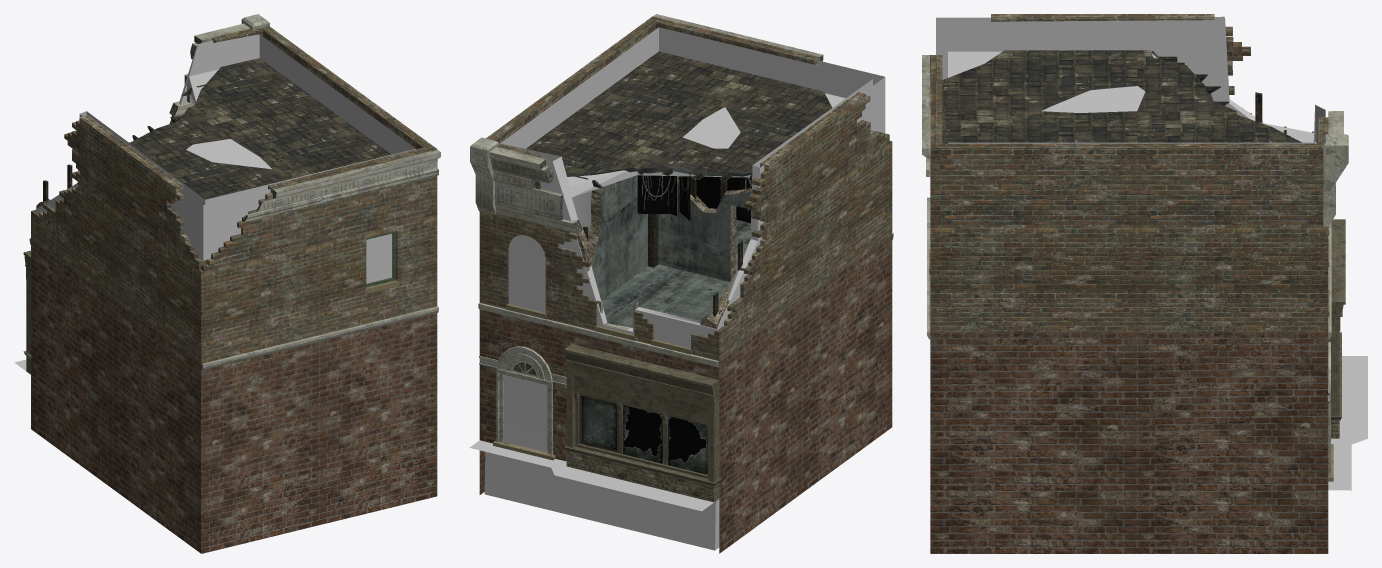
File: OTBuilding03.FBX
3 views of the same model, side by side, from view 1: azimuth 30°, elevation 25°; view 2: azimuth 150°, elevation 25°; view 3: azimuth 270°, elevation 25° (orthographic). The views are drawn at different scales.
Parts seen in each view (by area): view 1: OTBldg03:6, OTBldg03:7, OTBldg03_lod:0; view 2: OTBldg03:6, OTBldg03:7, OTBldg03_lod:0, OTBldg03:34, OTBldg03:74, OTBldg03:12; view 3: OTBldg03:6, OTBldg03:7, OTBldg03_lod:0, OTBldg03:74, OTBldg03:12.
Boxes of the visible parts, x1,y1,x2,y2 form: OTBldg03:6: (26, 26, 437, 553); OTBldg03:7: (23, 14, 440, 370); OTBldg03_lod:0: (35, 34, 415, 283); OTBldg03:6: (479, 16, 892, 553); OTBldg03:7: (470, 14, 893, 486); OTBldg03_lod:0: (484, 27, 885, 550); OTBldg03:34: (622, 174, 751, 474); OTBldg03:74: (469, 440, 713, 511); OTBldg03:12: (574, 168, 751, 316); OTBldg03:6: (930, 14, 1339, 553); OTBldg03:7: (922, 50, 1348, 481); OTBldg03_lod:0: (936, 16, 1325, 143); OTBldg03:74: (1328, 356, 1367, 490); OTBldg03:12: (1158, 56, 1286, 134).
Bounding box in the file's own units: 6.46 × 9.13 × 8.97.
